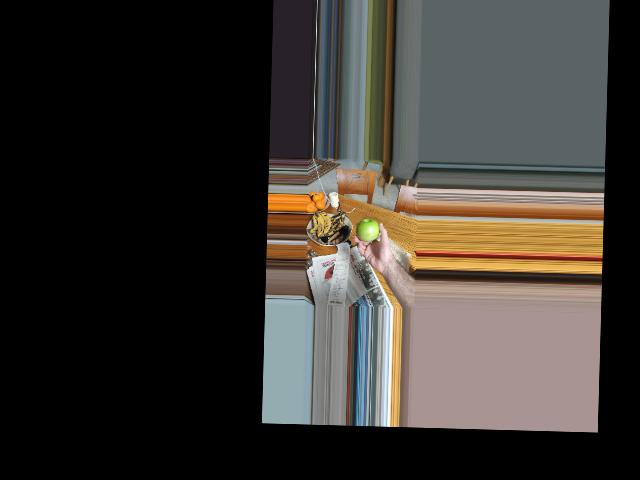apple: (359, 218, 381, 242)
